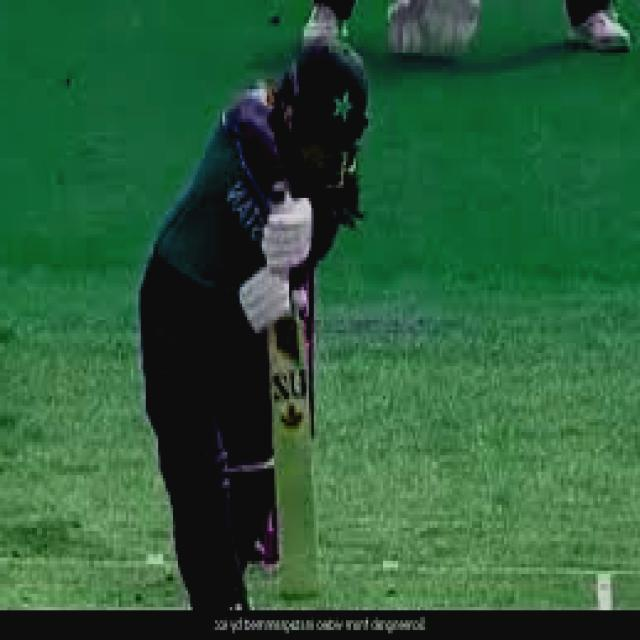bat: (265, 323, 328, 606)
toe: (278, 588, 319, 598)
